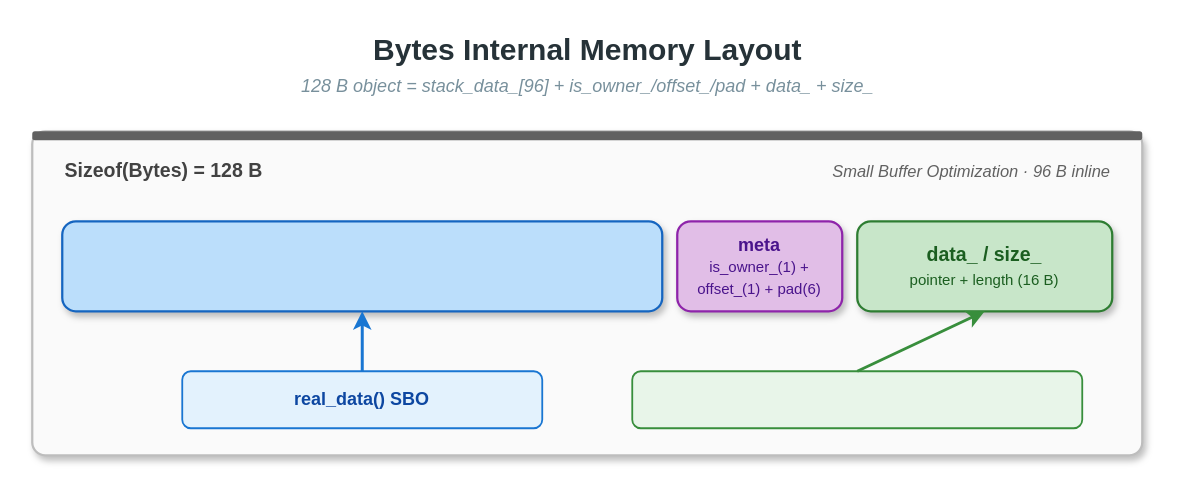
Image size: 1179x492. Some labels were removed from this diagram. Each missing label, with the centre of its shape:
"data() = real_data() + offset()" goes at [856,399].
"stack_data_[96] 96 bytes · inline" goes at [363,267].
